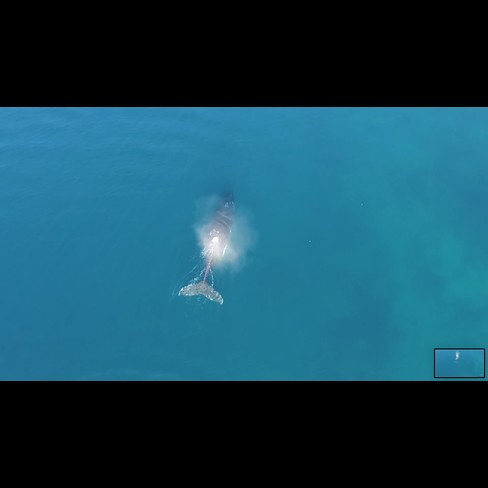hump: (173, 187, 248, 307)
